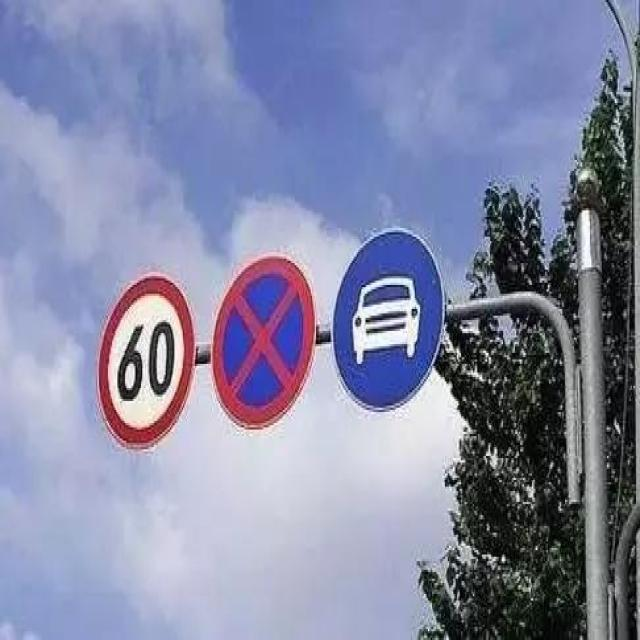speed limit 60: (95, 271, 195, 452)
